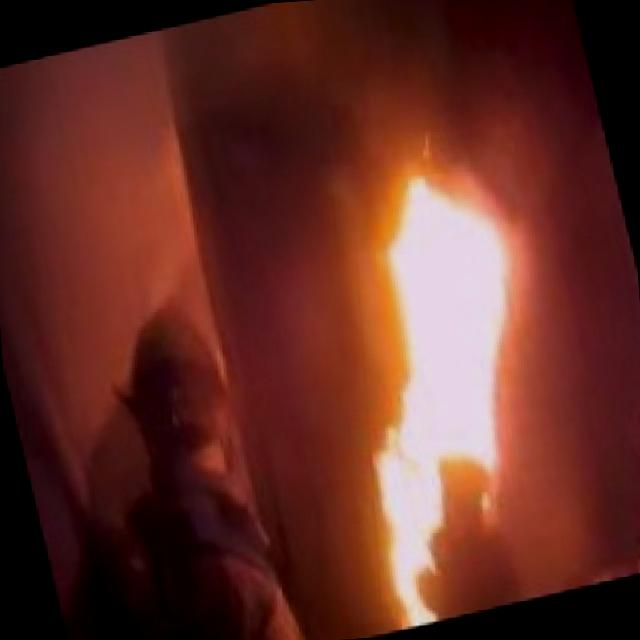fire: (321, 154, 541, 467)
